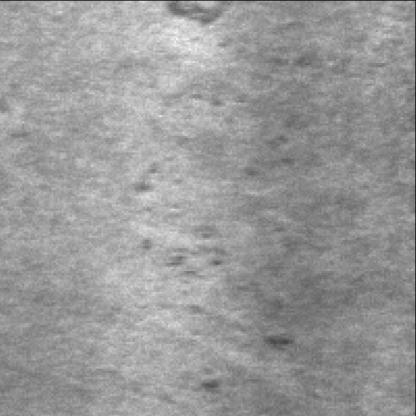rolled-in_scale: (187, 35, 327, 190), (125, 173, 222, 291)
